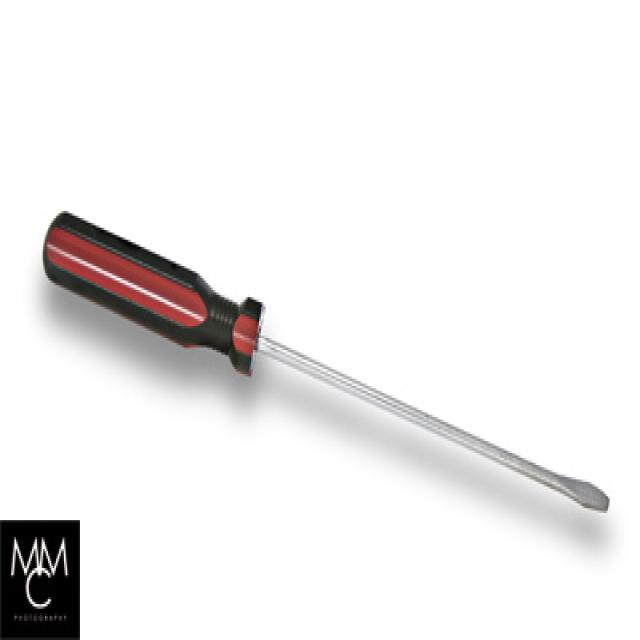screw_driver: (42, 211, 611, 511)
